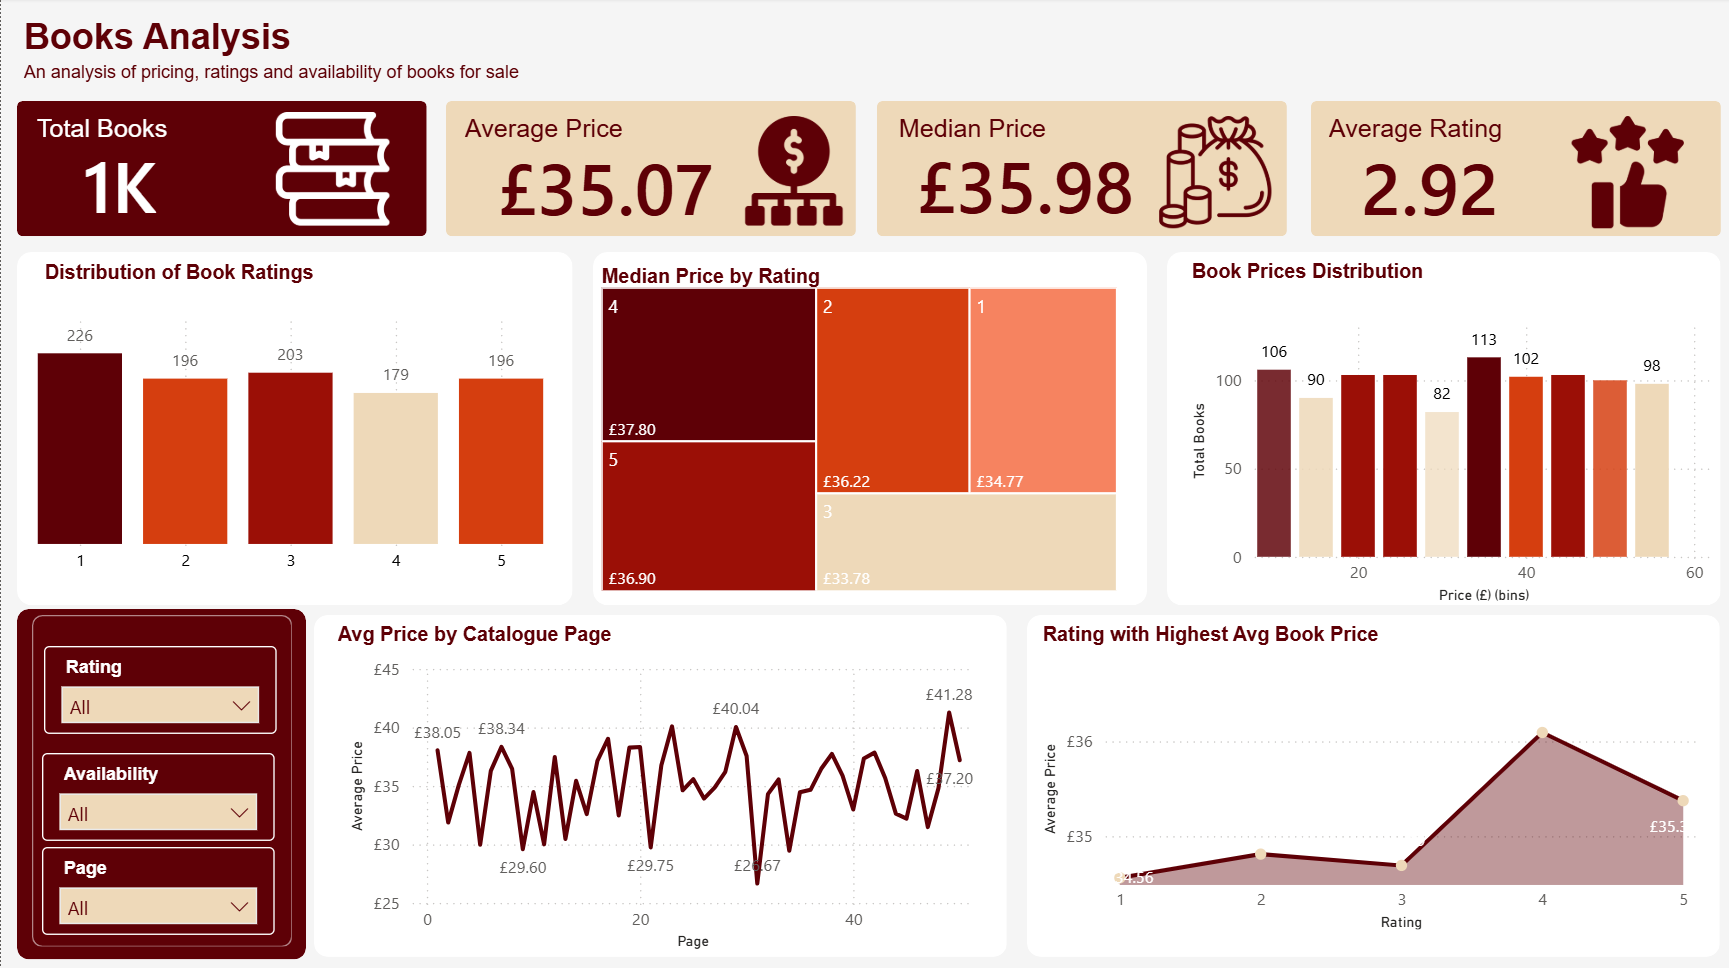

Layout of this report page (visuals, bound fields, positions):
{"tool":"powerbi","page":{"name":"Book Analysis","canvas":[1280,720],"ordinal":0},"visuals":[{"type":"shape","box":[12.1,451.5,213.6,259.1],"z":0},{"type":"textbox","box":[12.1,9.1,1150.4,59.4],"z":1000},{"type":"shape","box":[12.1,76.3,302.9,99.9],"z":2000},{"type":"shape","box":[328.7,76.3,303,99.9],"z":3000},{"type":"shape","box":[647.4,76.3,303,99.9],"z":4000},{"type":"shape","box":[968.2,76.3,303,99.9],"z":5000},{"type":"shape","box":[12.1,187.4,410.6,261.1],"z":6000},{"type":"shape","box":[231.2,456.3,512.3,252.7],"z":7000},{"type":"shape","box":[437.4,187.4,409.6,261.1],"z":8000},{"type":"shape","box":[861.6,187.4,409.5,261.1],"z":9000},{"type":"shape","box":[758.2,456.3,512.3,252.7],"z":10000},{"type":"shape","box":[22.7,456.1,192.4,245.5],"z":12000},{"type":"slicer","fields":{"Values":["Books.Availability"]},"box":[30.3,557.8,171.7,65.5],"z":15000},{"type":"slicer","fields":{"Values":["Books.Page"]},"box":[30.3,627.6,171.7,65.5],"z":17000},{"type":"cardVisual","fields":{"Data":["Books.Total Books"]},"box":[32,90.2,180.4,91.7],"z":21000},{"type":"textbox","box":[21.5,80.6,307.2,36.2],"z":22000},{"type":"textbox","box":[27.6,188.1,378.1,36.3],"z":23000},{"type":"textbox","box":[438.8,191.2,356.1,36.3],"z":24000},{"type":"textbox","box":[243.9,456.1,293.9,36.4],"z":25000},{"type":"cardVisual","fields":{"Data":["Books.Average Price"]},"box":[337.6,88.8,231.4,97.5],"z":26000},{"type":"textbox","box":[338.1,80.6,309.3,36.2],"z":27000},{"type":"textbox","box":[875.5,188,380.8,36.3],"z":28000},{"type":"treemap","fields":{"Group":["Books.Rating"],"Values":["Books.Median Price"]},"box":[438.8,209.3,390.8,234.3],"z":29000},{"type":"textbox","box":[765.2,456.1,434.9,43.9],"z":30000},{"type":"textbox","box":[658.9,80.6,288.4,36.2],"z":32000},{"type":"textbox","box":[976.6,80.7,244.1,36.3],"z":33000},{"type":"clusteredColumnChart","fields":{"Category":["Books.Price (£) (bins)"],"Y":["Books.Total Books"]},"box":[875.5,227.6,395.1,224.4],"z":35000},{"type":"lineChart","fields":{"Category":["Books.Page"],"Y":["Books.Average Price"]},"box":[252.7,482.2,470.9,226],"z":36000},{"type":"cardVisual","fields":{"Data":["Books.Median Price"]},"box":[647.5,87.3,222.6,97.5],"z":37000},{"type":"cardVisual","fields":{"Data":["Books.Average Rating"]},"box":[976.4,87.3,197.9,98.9],"z":38000},{"type":"areaChart","title":"Device Avoidance","fields":{"Category":["Books.Rating"],"Y":["Books.Average Price"]},"box":[765.1,500.3,493.4,193.2],"z":40000},{"type":"clusteredColumnChart","fields":{"Category":["Books.Rating"],"Y":["Count(Books.Book URL)"]},"box":[22.1,224.5,383.6,208.9],"z":41000},{"type":"actionButton","box":[45.2,98.2,150.3,50.1],"z":42000},{"type":"slicer","fields":{"Values":["Books.Rating"]},"box":[31.6,478.8,171.7,65.5],"z":42001},{"type":"image","box":[1148.1,87.3,109.1,82.9],"z":42002},{"type":"image","box":[846.9,87.3,100.4,82.9],"z":42003},{"type":"image","box":[538.4,87.3,96,81.5],"z":42004},{"type":"image","box":[195,84.4,100.4,84.4],"z":42005}]}

Visuals, with their boxes in screenshot pixels (x1, y1, x2, y2), scaled from the page's 1280x720 canvas onto the 1729x968 screenshot:
shape: select_region(16, 607, 305, 955)
textbox: select_region(16, 12, 1570, 92)
shape: select_region(16, 103, 425, 237)
shape: select_region(444, 103, 853, 237)
shape: select_region(874, 103, 1284, 237)
shape: select_region(1308, 103, 1717, 237)
shape: select_region(16, 252, 571, 603)
shape: select_region(312, 613, 1004, 953)
shape: select_region(591, 252, 1144, 603)
shape: select_region(1164, 252, 1717, 603)
shape: select_region(1024, 613, 1716, 953)
shape: select_region(31, 613, 291, 943)
slicer - Books.Availability: select_region(41, 750, 273, 838)
slicer - Books.Page: select_region(41, 844, 273, 932)
cardVisual - Books.Total Books: select_region(43, 121, 287, 245)
textbox: select_region(29, 108, 444, 157)
textbox: select_region(37, 253, 548, 302)
textbox: select_region(593, 257, 1074, 306)
textbox: select_region(329, 613, 726, 662)
cardVisual - Books.Average Price: select_region(456, 119, 769, 250)
textbox: select_region(457, 108, 874, 157)
textbox: select_region(1183, 253, 1697, 302)
treemap - Books.Rating x Books.Median Price: select_region(593, 281, 1121, 596)
textbox: select_region(1034, 613, 1621, 672)
textbox: select_region(890, 108, 1280, 157)
textbox: select_region(1319, 108, 1649, 157)
clusteredColumnChart - Books.Price (£) (bins) x Books.Total Books: select_region(1183, 306, 1716, 608)
lineChart - Books.Page x Books.Average Price: select_region(341, 648, 977, 952)
cardVisual - Books.Median Price: select_region(875, 117, 1175, 248)
cardVisual - Books.Average Rating: select_region(1319, 117, 1586, 250)
"Device Avoidance" areaChart: select_region(1033, 673, 1700, 932)
clusteredColumnChart - Books.Rating x Count(Books.Book URL): select_region(30, 302, 548, 583)
actionButton: select_region(61, 132, 264, 199)
slicer - Books.Rating: select_region(43, 644, 275, 732)
image: select_region(1551, 117, 1698, 229)
image: select_region(1144, 117, 1280, 229)
image: select_region(727, 117, 857, 227)
image: select_region(263, 113, 399, 227)
